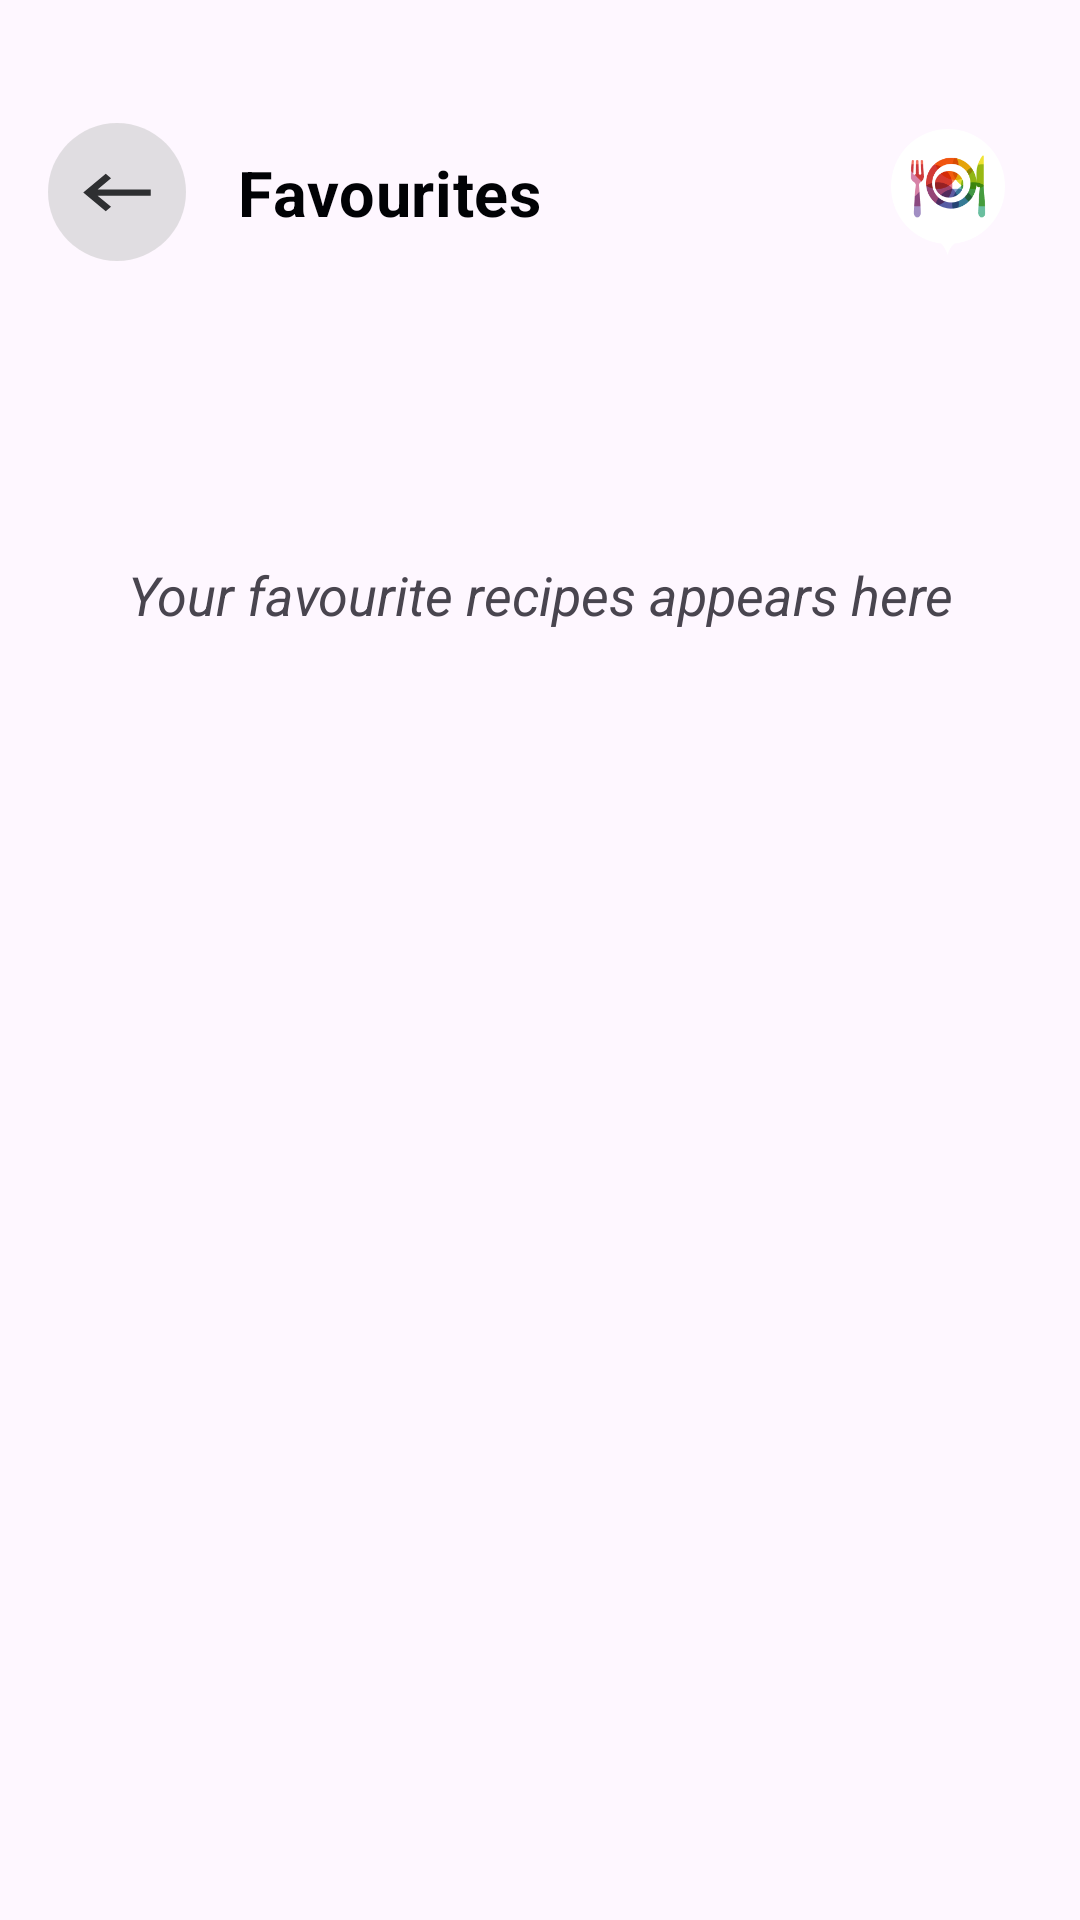

Point at icon controls on the screen. Image size 1080*1920, points as (x=x, y=y).
back: (x=117, y=192)
